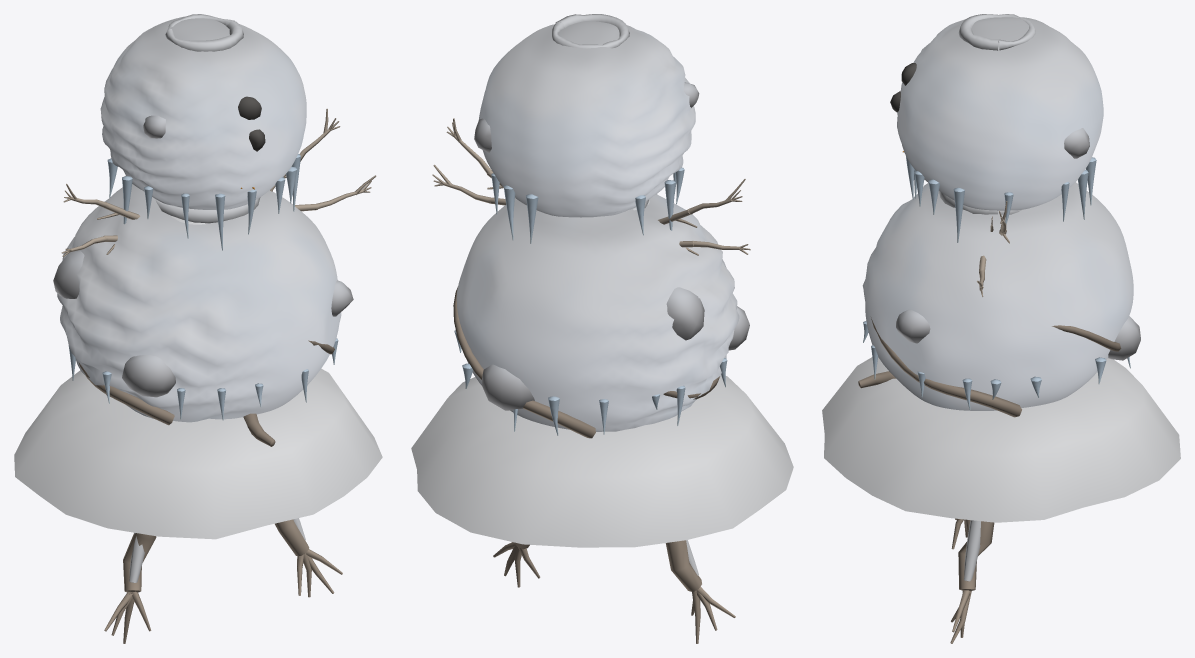
File: snowmen.glb
The picture shows the model from 3 angles, left to right: view 1: azimuth 30°, elevation 25°; view 2: azimuth 150°, elevation 25°; view 3: azimuth 270°, elevation 25°; orthographic projection. The views are drawn at different scales.
Parts seen in each view (by area): view 1: warden_balwan_torso, warden_balwan_arm_l, warden_balwan_arm_r, snowman_b, snowman_a; view 2: warden_balwan_torso, warden_balwan_arm_l, snowman_b, snowman_a, warden_balwan_arm_r; view 3: warden_balwan_torso, warden_balwan_arm_r.
Part boxes in pixels (x1,y1,x2,y2): warden_balwan_torso: [14, 14, 382, 539]; warden_balwan_arm_l: [104, 532, 156, 643]; warden_balwan_arm_r: [275, 518, 342, 597]; snowman_b: [63, 175, 376, 224]; snowman_a: [61, 108, 340, 256]; warden_balwan_torso: [411, 14, 793, 547]; warden_balwan_arm_l: [665, 540, 735, 643]; snowman_b: [432, 164, 745, 227]; snowman_a: [446, 118, 750, 255]; warden_balwan_arm_r: [493, 542, 540, 587]; warden_balwan_torso: [822, 14, 1180, 522]; warden_balwan_arm_r: [950, 520, 994, 643].
Size of the model in its own units: 1.78 by 3.04 by 1.72.
